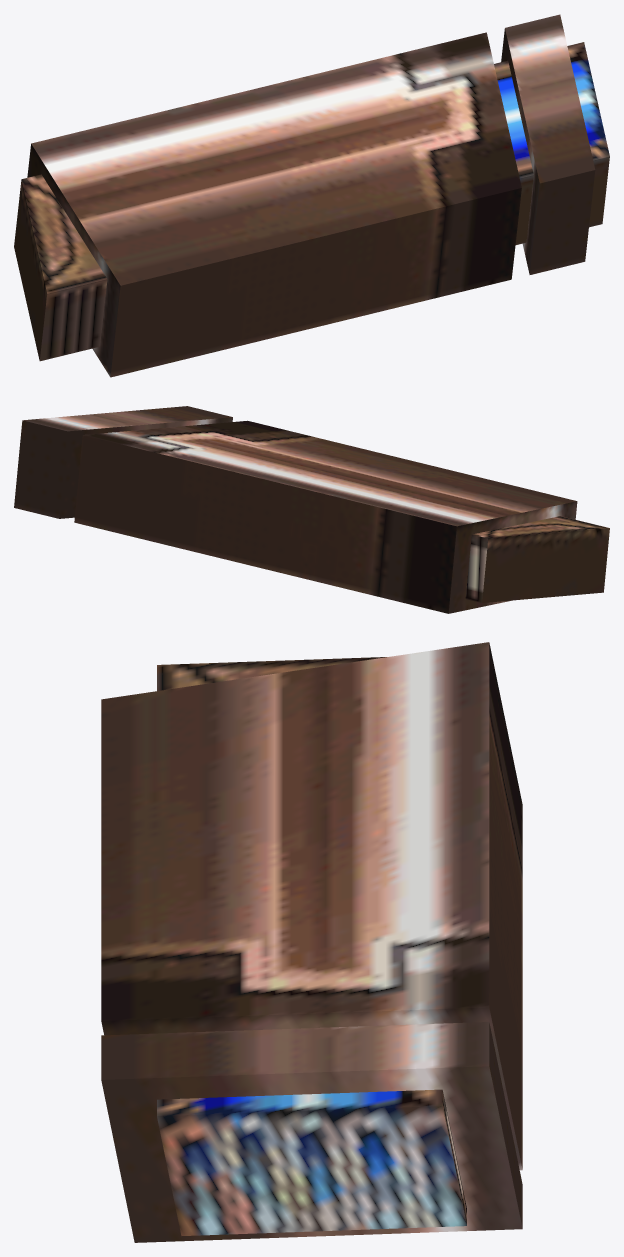
3 renders of one model, top to bottom at view 1: azimuth 30°, elevation 25°; view 2: azimuth 150°, elevation 25°; view 3: azimuth 270°, elevation 25°, orthographic. The views are drawn at different scales.
Visible parts, largest first — view 1: BW215; view 2: BW215; view 3: BW215.
Boxes of the visible parts, x1,y1,x2,y2 form: BW215: (14,14,609,377); BW215: (14,406,609,613); BW215: (101,642,522,1242).
Bounding box in the file's own units: 21.05 × 4.77 × 7.49.
Materials: 1 (1 with a texture image).
